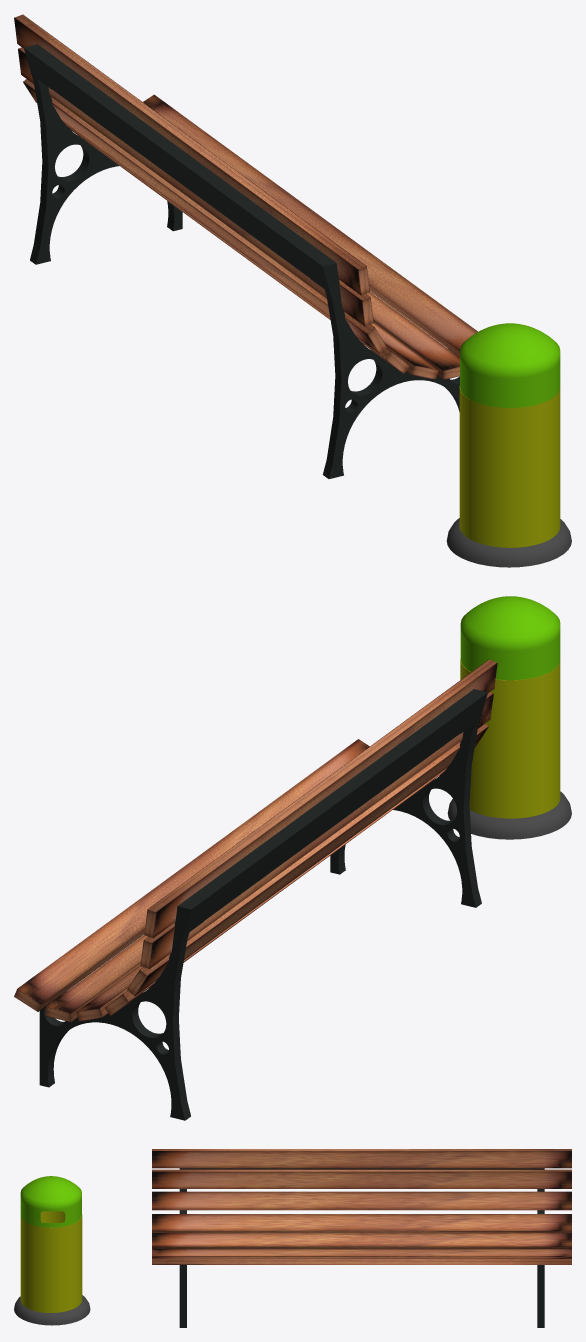
File: bench 3d model.fbx
3 views of the same model, one above another, from view 1: azimuth 30°, elevation 25°; view 2: azimuth 150°, elevation 25°; view 3: azimuth 270°, elevation 25° (orthographic). The views are drawn at different scales.
Parts seen in each view (by area): view 1: Tube, Cylinder_4, Cube_4, Cube_6_2, Cube_8, Oil_Tank, Cube_2_2, Cube_1, Cube_5, Torus, Cube_5_2, Cube_3_2 (+1 smaller); view 2: Tube, Cube_4, Cylinder_4, Cube_6_2, Cube_8, Oil_Tank, Cube_2_2, Cube_1, Cube_5, Cube_5_2, Torus, Cube_3_2 (+1 smaller); view 3: Cube_2_2, Cube_1, Cube_8, Cube_3_2, Cube_4_2, Tube, Cube_5_2, Cube_6_2, Oil_Tank, Torus, Cube_4, Cube_6.
Part boxes in pixels (x1,y1,x2,y2): Tube: (459,385,560,547); Cylinder_4: (24,48,341,478); Cube_4: (24,44,459,478); Cube_6_2: (143,94,477,356); Cube_8: (14,14,369,295); Oil_Tank: (460,323,560,407); Cube_2_2: (23,79,387,353); Cube_1: (18,47,373,326); Cube_5: (36,79,182,264); Torus: (446,518,571,567); Cube_5_2: (366,292,459,380); Cube_3_2: (65,124,409,373); Tube: (460,659,560,818); Cube_4: (39,689,487,1120); Cylinder_4: (173,692,487,1120); Cube_6_2: (14,739,369,1011); Cube_8: (144,659,497,938); Oil_Tank: (460,596,560,680); Cube_2_2: (127,723,488,996); Cube_1: (140,692,493,969); Cube_5: (330,724,475,907); Cube_5_2: (45,935,147,1022); Torus: (447,791,571,839); Cube_3_2: (105,768,446,1015); Cube_2_2: (152,1191,571,1210); Cube_1: (152,1169,571,1188); Cube_8: (152,1149,571,1168); Cube_3_2: (152,1214,571,1232); Cube_4_2: (152,1233,571,1248); Tube: (20,1211,82,1312); Cube_5_2: (152,1249,571,1257); Cube_6_2: (152,1257,571,1264); Oil_Tank: (20,1176,81,1227); Torus: (14,1295,90,1325); Cube_4: (179,1265,544,1327); Cube_6: (179,1168,544,1169).
Size of the model in its own units: 60.36 by 84.88 by 306.
5 materials, 1 textured.
